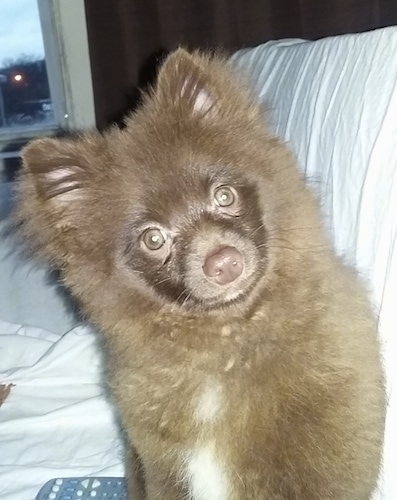pomeranian: (19, 68, 377, 500)
